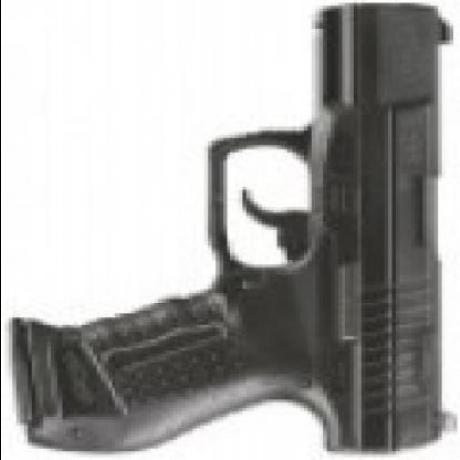weapon: (18, 6, 454, 457)
